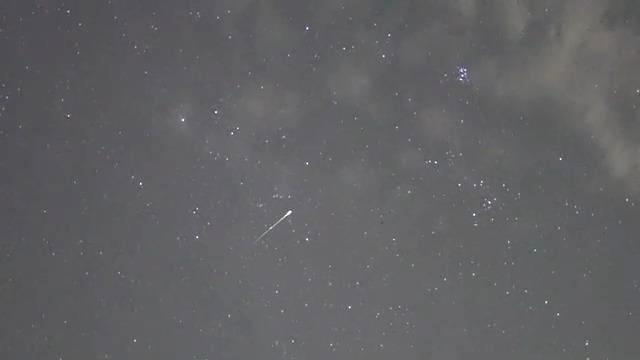meteorite: (237, 202, 313, 244)
